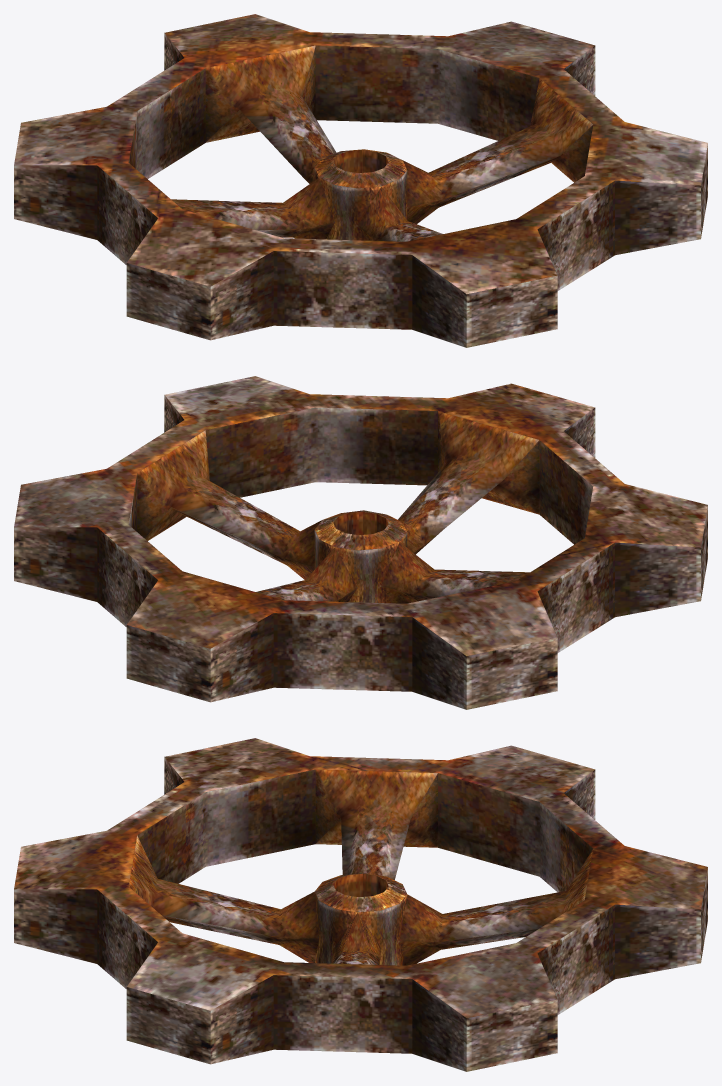
Rendered from spinning_cogwheel.dae.
3 views of the same model, one above another, from view 1: azimuth 30°, elevation 25°; view 2: azimuth 150°, elevation 25°; view 3: azimuth 270°, elevation 25° (orthographic).
Visible parts, largest first — view 1: spinning_cog1; view 2: spinning_cog1; view 3: spinning_cog1.
Boxes of the visible parts, box(x1,y1,x2,y2) form: spinning_cog1: box(14, 14, 707, 347); spinning_cog1: box(14, 376, 707, 709); spinning_cog1: box(14, 738, 707, 1071).
Bounding box in the file's own units: 2.13 × 0.3809 × 2.23.
